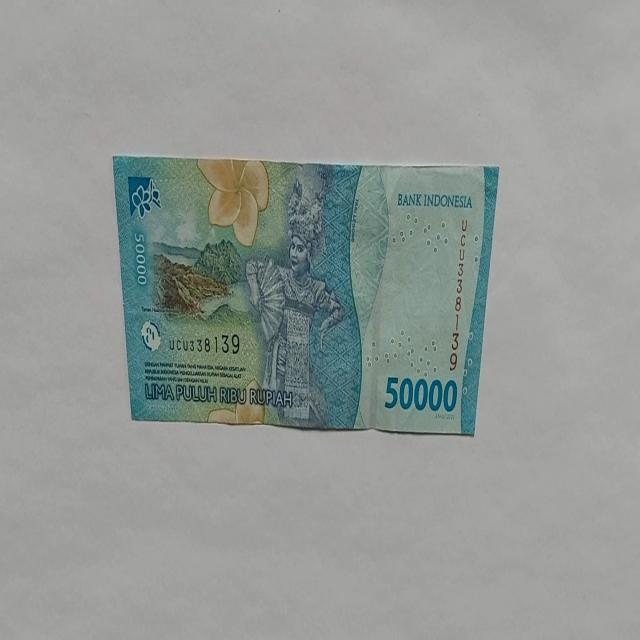lima puluh ribu rupiah: (112, 154, 500, 436)
